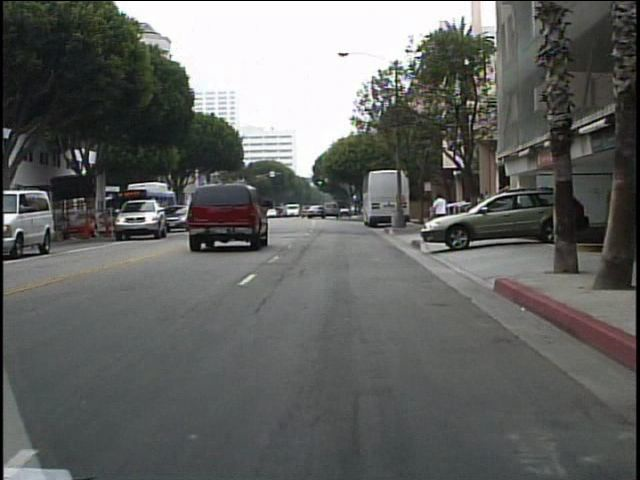person: (428, 191, 451, 239)
